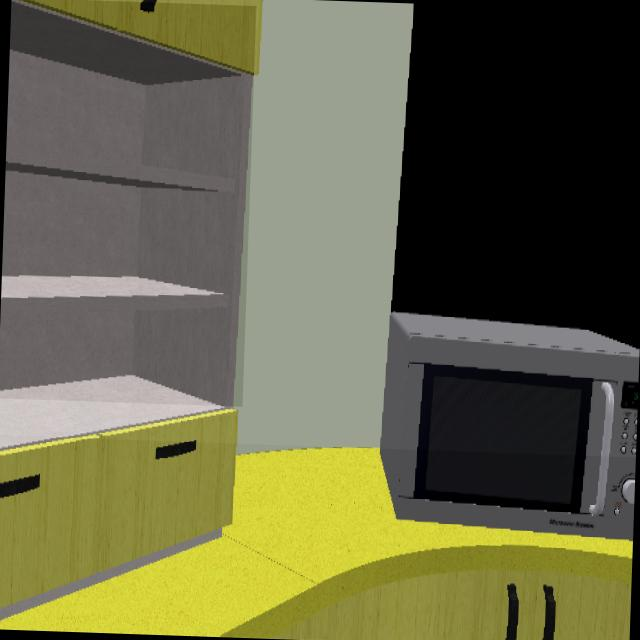countertop: (0, 447, 632, 637)
microwave: (380, 315, 639, 539)
